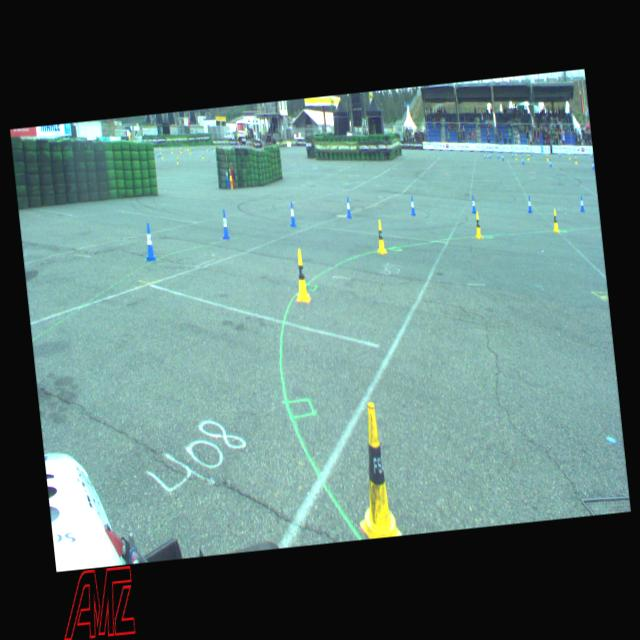blue_cone: (142, 222, 156, 260), (220, 209, 229, 239), (288, 200, 296, 227), (408, 194, 416, 216), (345, 196, 351, 217), (526, 195, 532, 213), (470, 195, 476, 212), (578, 196, 584, 212)
yellow_cone: (348, 400, 403, 540), (292, 248, 310, 302), (374, 218, 386, 254), (473, 210, 482, 239), (551, 208, 559, 232)
